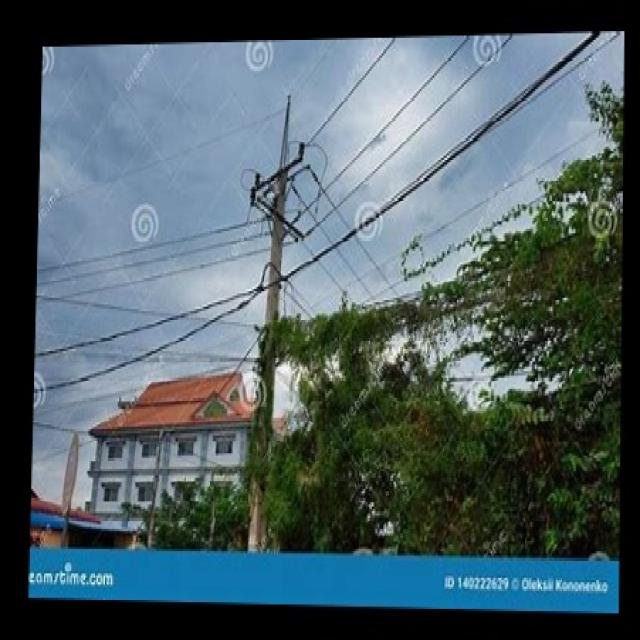critical vegetation: (264, 275, 618, 403)
